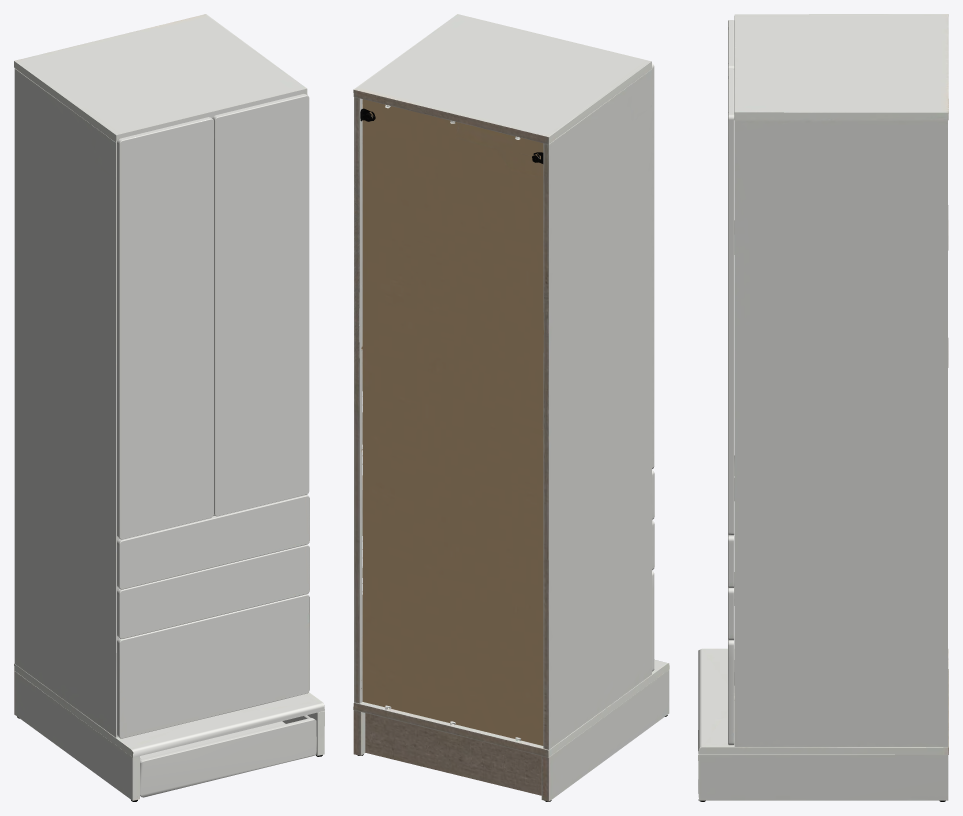
Rendered from smastad_platsa_szafa_89428310.glb.
3 renders of one model, left to right at view 1: azimuth 30°, elevation 25°; view 2: azimuth 150°, elevation 25°; view 3: azimuth 270°, elevation 25°, orthographic. The views are drawn at different scales.
Parts seen in each view (by area): view 1: smastad_platsa_szafa_89428310; view 2: smastad_platsa_szafa_89428310; view 3: smastad_platsa_szafa_89428310.
Boxes of the visible parts, x1,y1,x2,y2 form: smastad_platsa_szafa_89428310: (14,14,324,801); smastad_platsa_szafa_89428310: (353,14,669,801); smastad_platsa_szafa_89428310: (698,14,948,801).
Size of the model in its own units: 0.6021 by 1.96 by 0.6461.
Materials: 5 (5 with a texture image).
